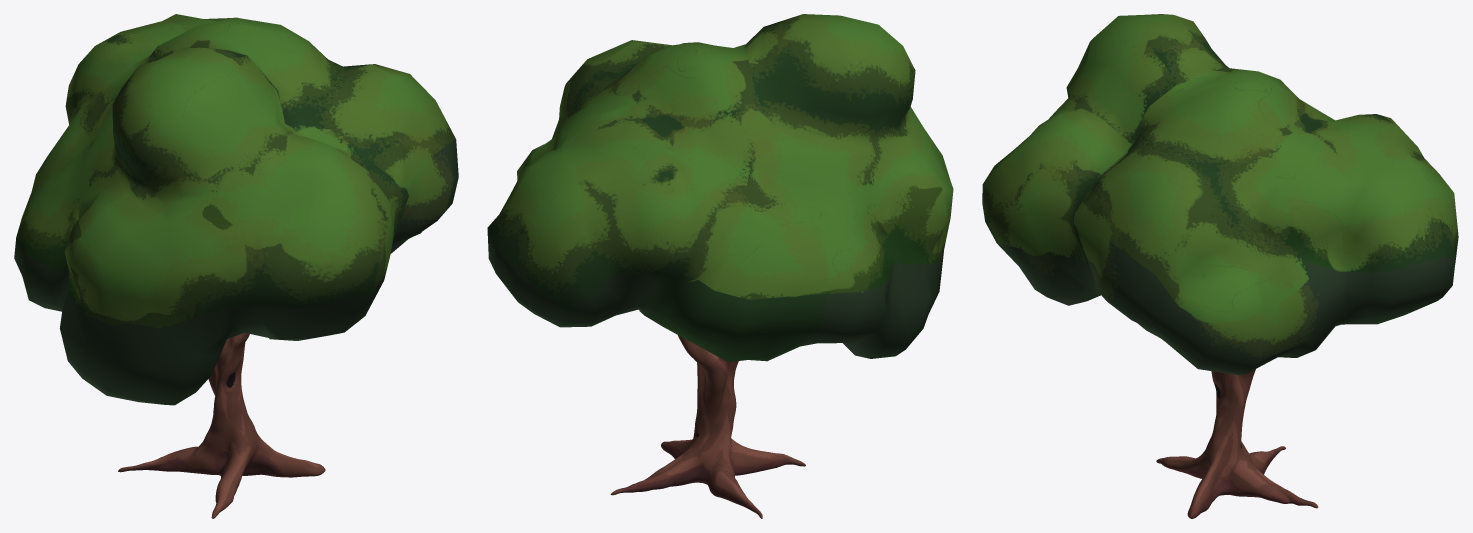
Rendered from TreeLarge(DETACHED).fbx.
3 renders of one model, left to right at view 1: azimuth 30°, elevation 25°; view 2: azimuth 150°, elevation 25°; view 3: azimuth 270°, elevation 25°, orthographic. The views are drawn at different scales.
Parts seen in each view (by area): view 1: Retopo_Mball.001, Retopo_Mball.015; view 2: Retopo_Mball.001, Retopo_Mball.015; view 3: Retopo_Mball.001, Retopo_Mball.015.
Part boxes in pixels (bbox=[...]): Retopo_Mball.001: bbox=[14, 14, 458, 405]; Retopo_Mball.015: bbox=[118, 332, 325, 518]; Retopo_Mball.001: bbox=[487, 14, 953, 362]; Retopo_Mball.015: bbox=[610, 335, 805, 518]; Retopo_Mball.001: bbox=[982, 14, 1458, 375]; Retopo_Mball.015: bbox=[1156, 369, 1318, 518].
Bounding box in the file's own units: 1335 × 1486 × 1486.
